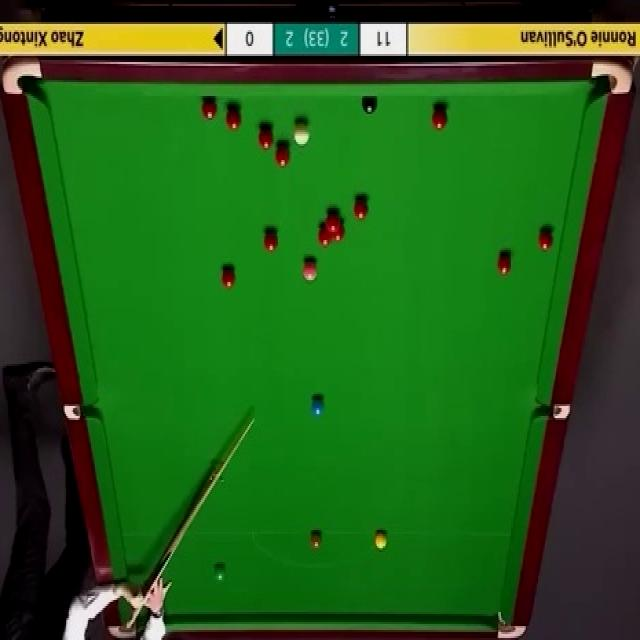black-ball: (361, 95, 378, 114)
blue-ball: (311, 395, 325, 418)
brown-ball: (310, 529, 324, 552)
green-ball: (213, 562, 228, 582)
pink-ball: (302, 258, 317, 286)
red-ball: (220, 262, 237, 291), (537, 224, 555, 251), (225, 106, 241, 133), (431, 106, 448, 131), (258, 125, 274, 151), (275, 142, 290, 168), (498, 252, 514, 276), (264, 228, 279, 253), (354, 197, 368, 221), (318, 222, 332, 246), (202, 100, 218, 120), (326, 210, 339, 230), (332, 222, 345, 242)
white-ball: (292, 118, 311, 150)
yellow-ball: (375, 531, 388, 551)
